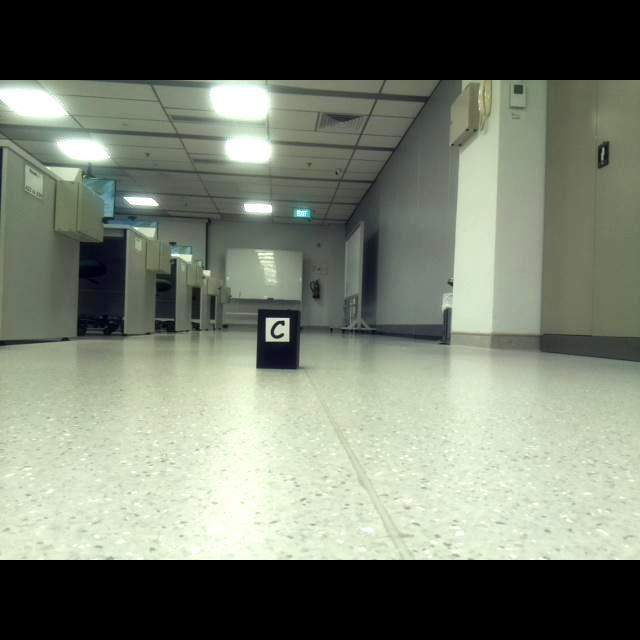C: (270, 321, 286, 340)
